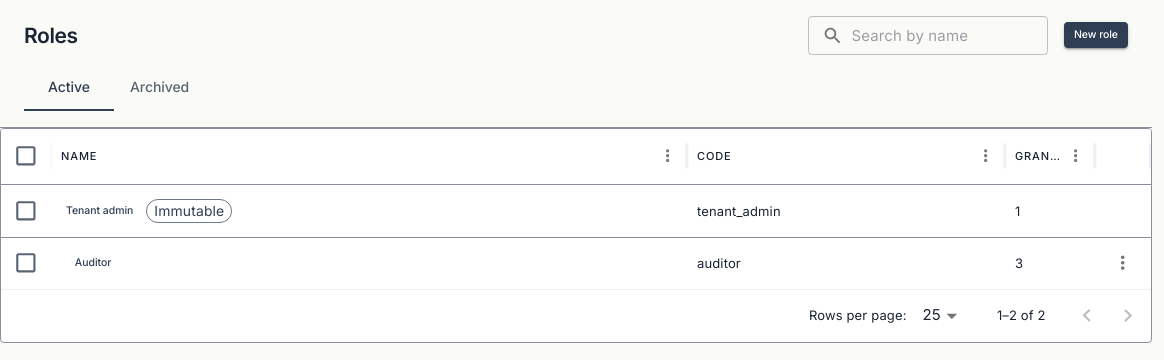
it: RolesPage (M0003-R016–R018) › lists archived roles in the Archived tab, with no filter popover or create action (I0011-R001–R005)
Check: the button "Auditor" is shown, box [61,250,125,276]
Click the tab "Archived".
click(160, 87)  # box [114,63,205,111]
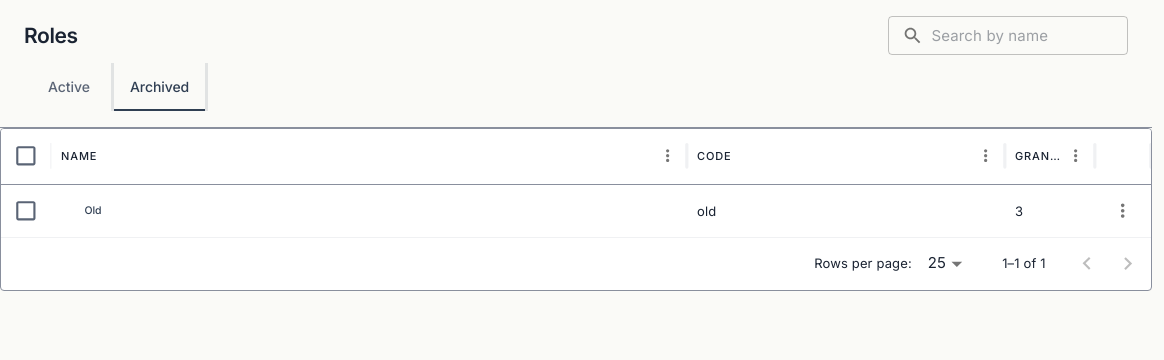
Check: the button "Old" is shown, box [61,198,125,224]
Check: the button "Auditor" is gone
Check: the button "New role" is gone
